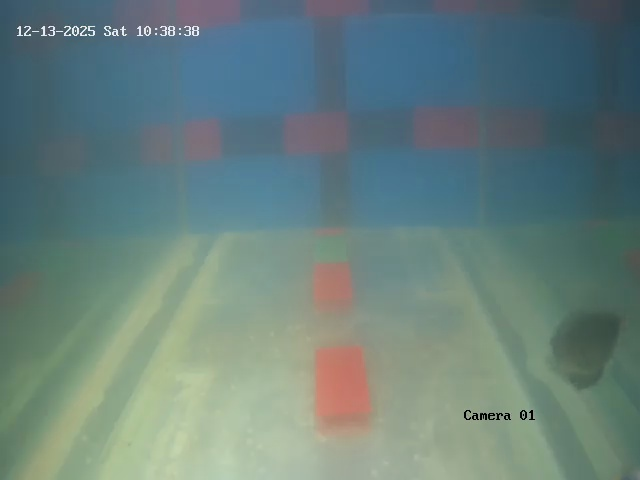fish: (550, 306, 620, 389)
